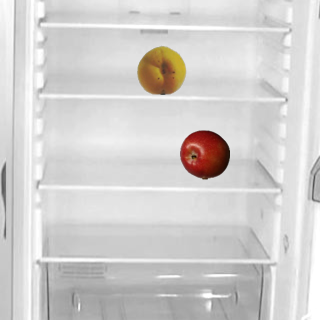Apple Braeburn: (179, 129, 229, 179)
Peach 2: (136, 44, 186, 94)
